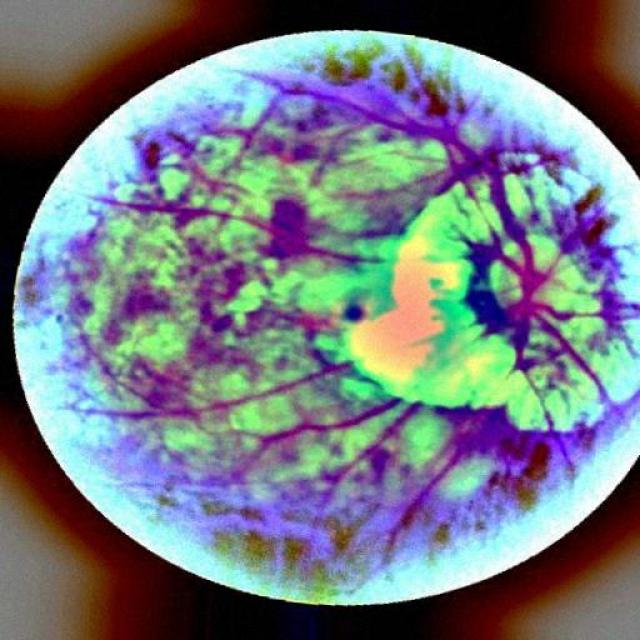Optic Disk: (346, 182, 521, 408)
